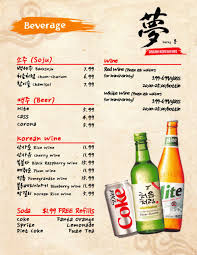not-coke: (132, 117, 184, 234)
